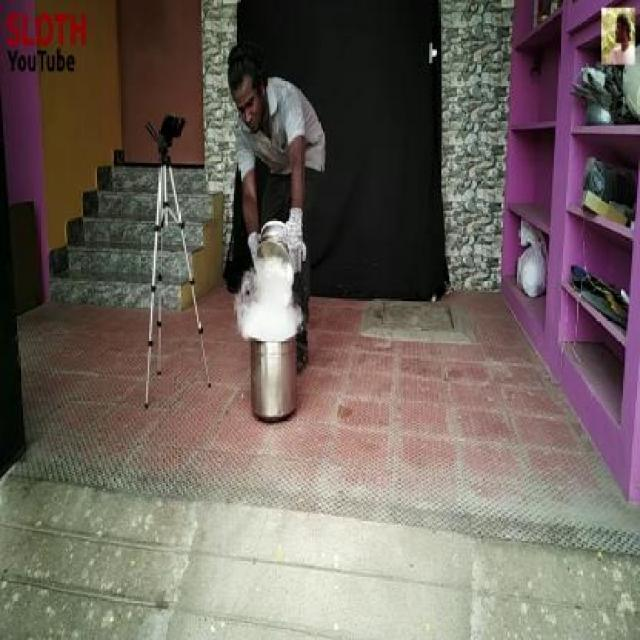smoke: (238, 277, 306, 348)
